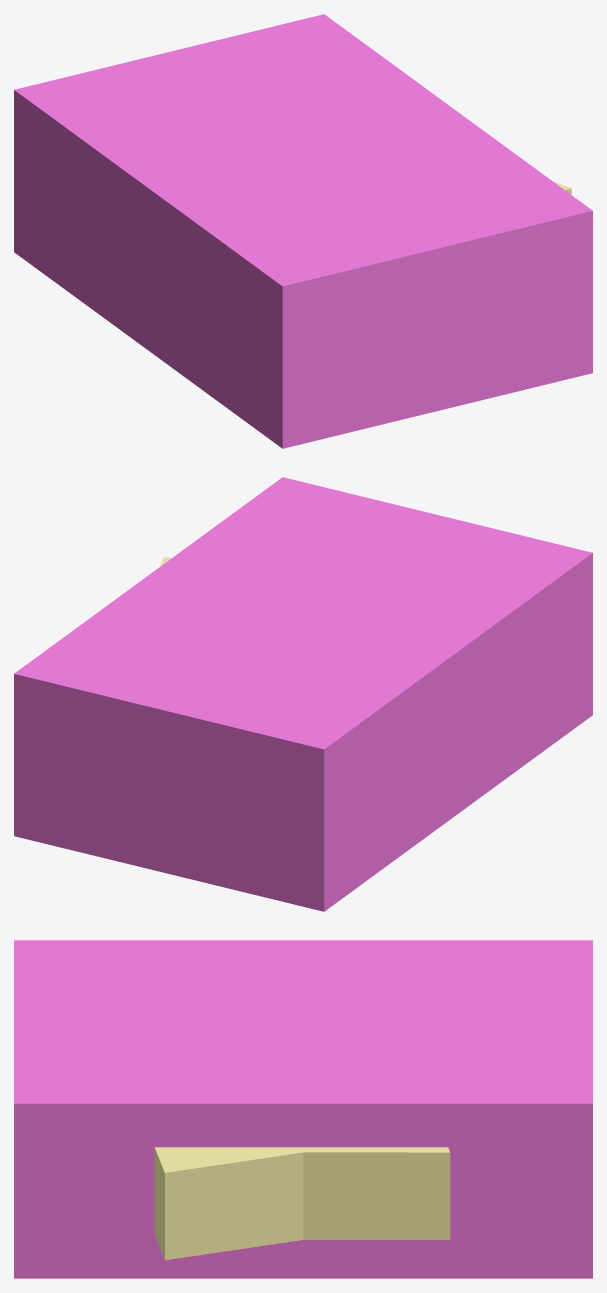
File: Breaker_Individual.fbx
3 renders of one model, top to bottom at view 1: azimuth 30°, elevation 25°; view 2: azimuth 150°, elevation 25°; view 3: azimuth 270°, elevation 25°, orthographic. The views are drawn at different scales.
Visible parts, largest first — view 1: Model; view 2: Model; view 3: Model, Breaker_lever_2_1.
Part boxes in pixels (x1,y1,x2,y2): Model: (14, 14, 592, 448); Model: (14, 477, 592, 911); Model: (14, 940, 592, 1278); Breaker_lever_2_1: (154, 1147, 450, 1260).
Bounding box in the file's own units: 2.31 × 1 × 3.
